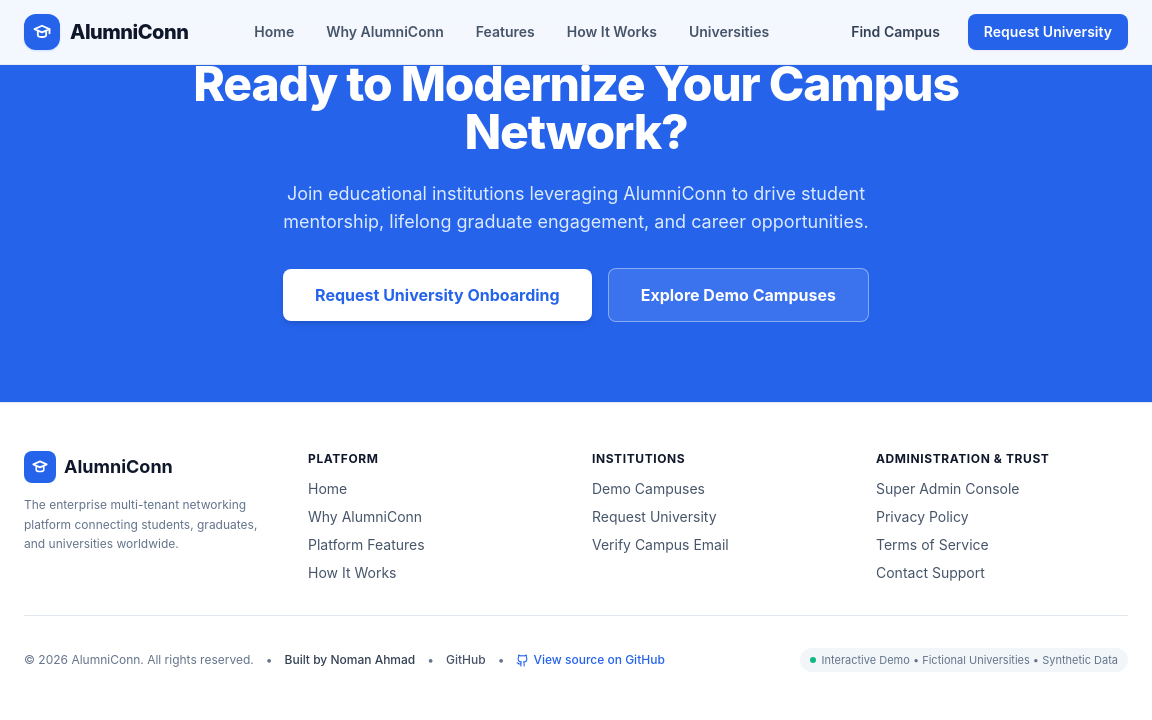
LandingPage › opens and closes information modal on legal footer button click
(page scrolled)
Click the button "Privacy Policy" at (922, 517), box [876,507,969,527]
(page scrolled)
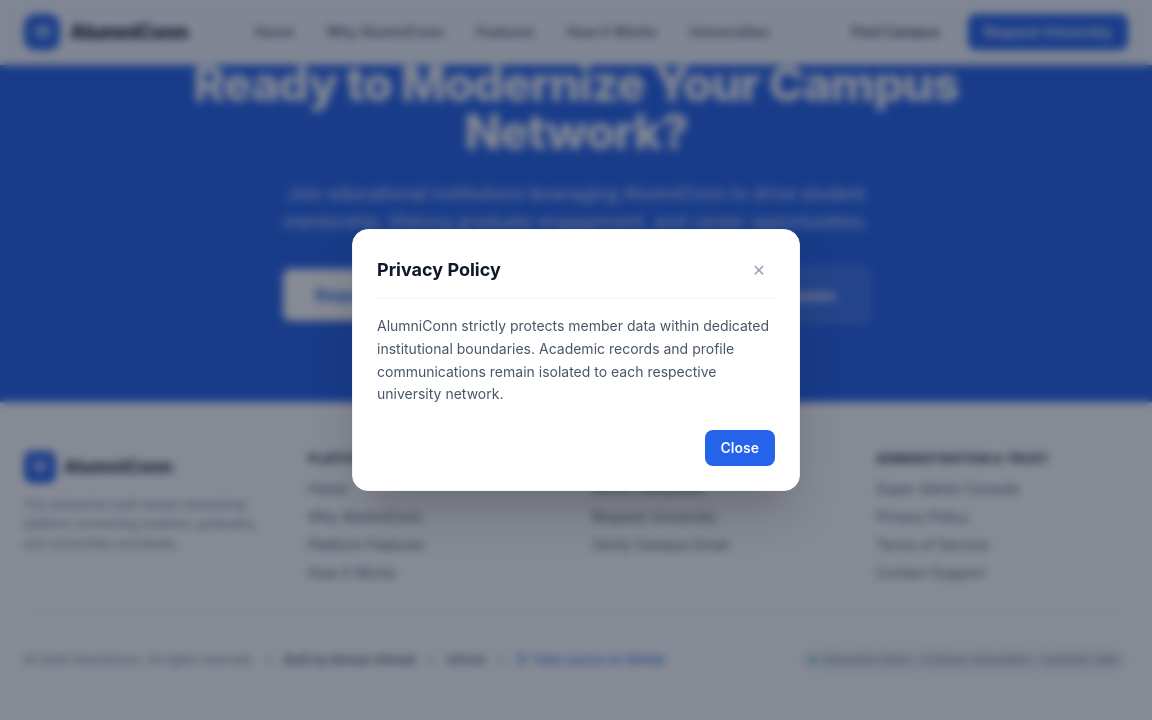
Result: the text "AlumniConn strictly protects member data" is shown at [377,317,769,402]
Click the button "Close" at (740, 448), box [704,430,775,466]
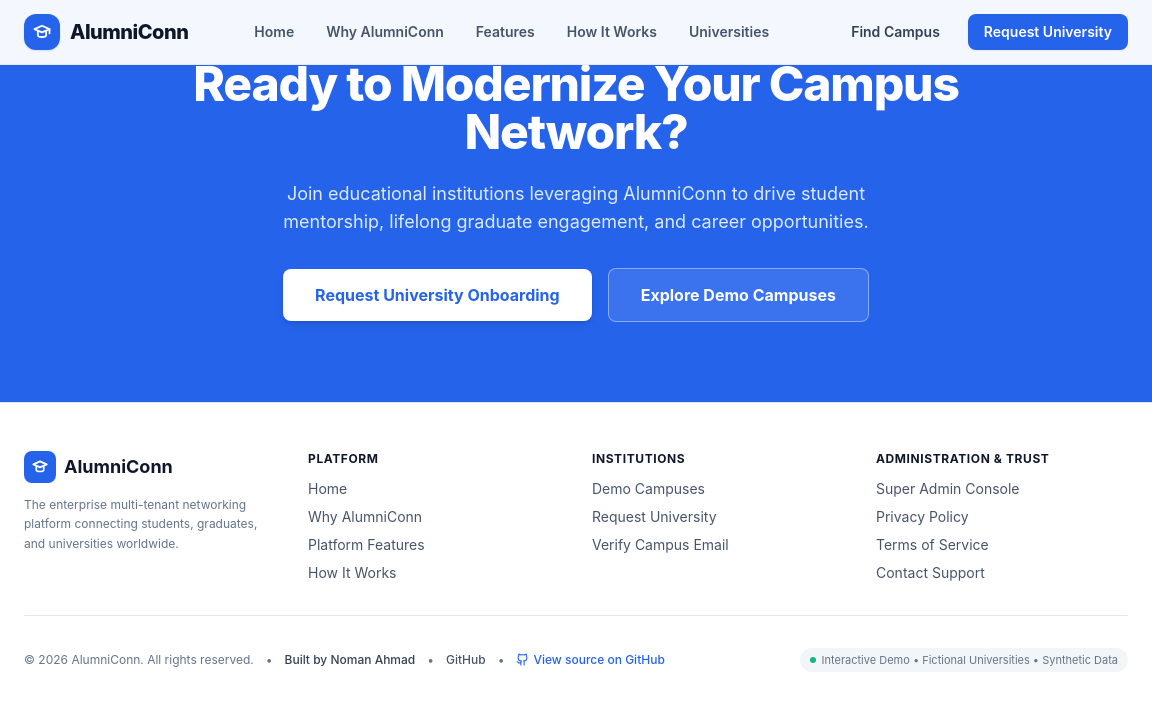
Result: the text "AlumniConn strictly protects member data" is gone
